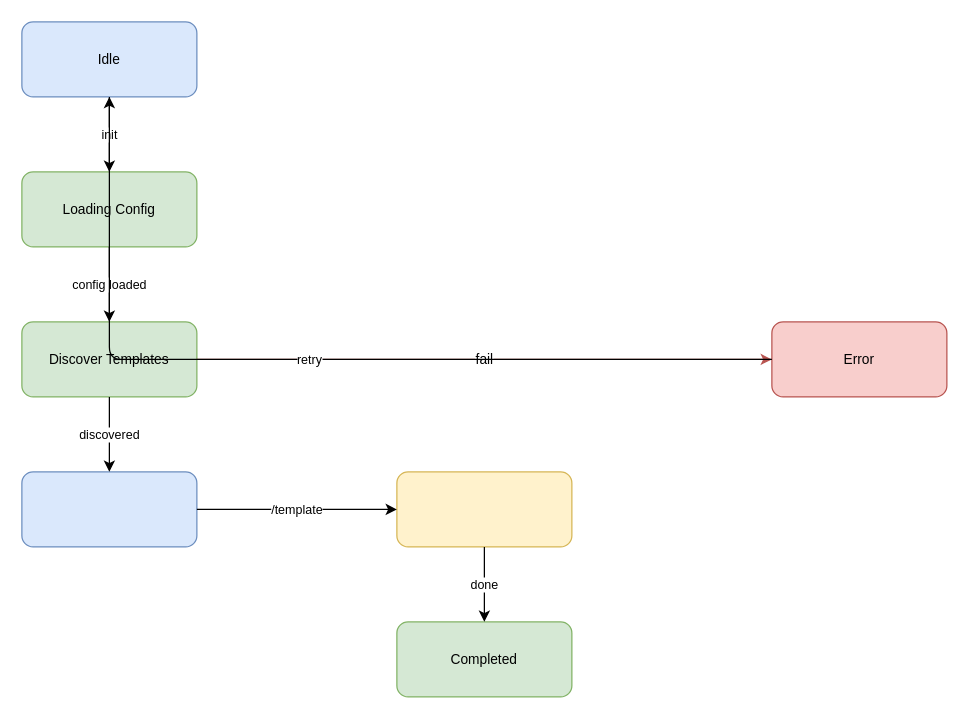
This 969x719 diagram has some shape labels left out. The centre of each missing label's shape, as x and y in pixels:
"Executing" belongs at [484,509].
"Ready" belongs at [109,509].
